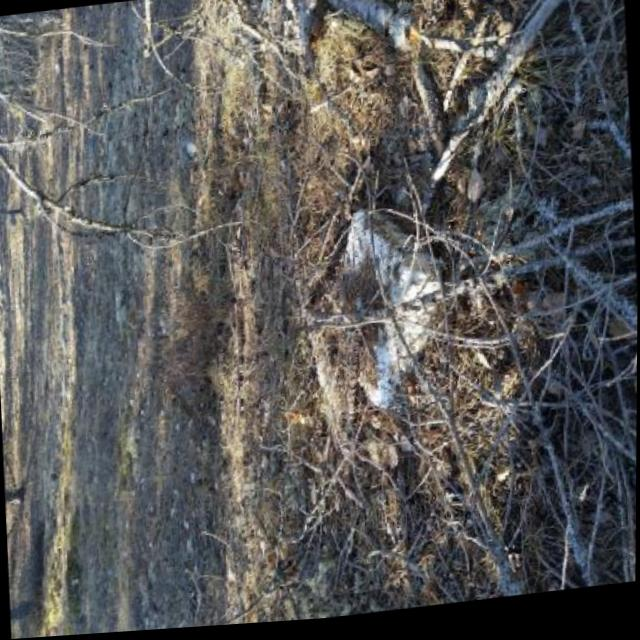foam: (328, 199, 451, 416)
